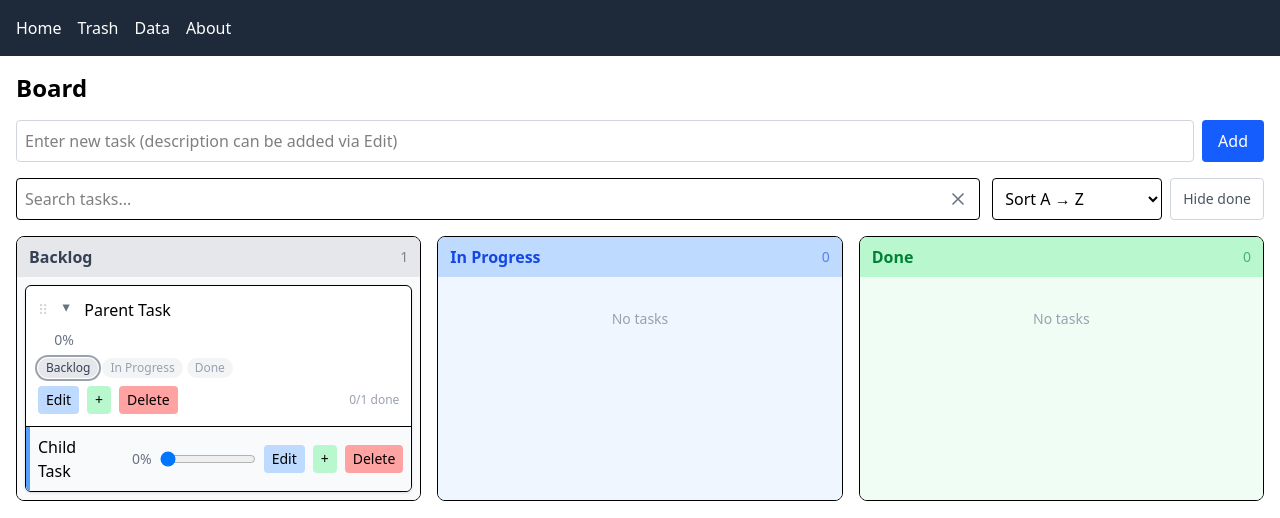
Test: a deleted subtask whose parent is still active shows a subtask badge
The image size is (1280, 518).
Expected: the text "Child Task" is shown, x1=38 y1=436 x2=76 y2=482
Click the button "Delete" in the row of "Child Task" at (374, 459), box x1=345 y1=445 x2=403 y2=473
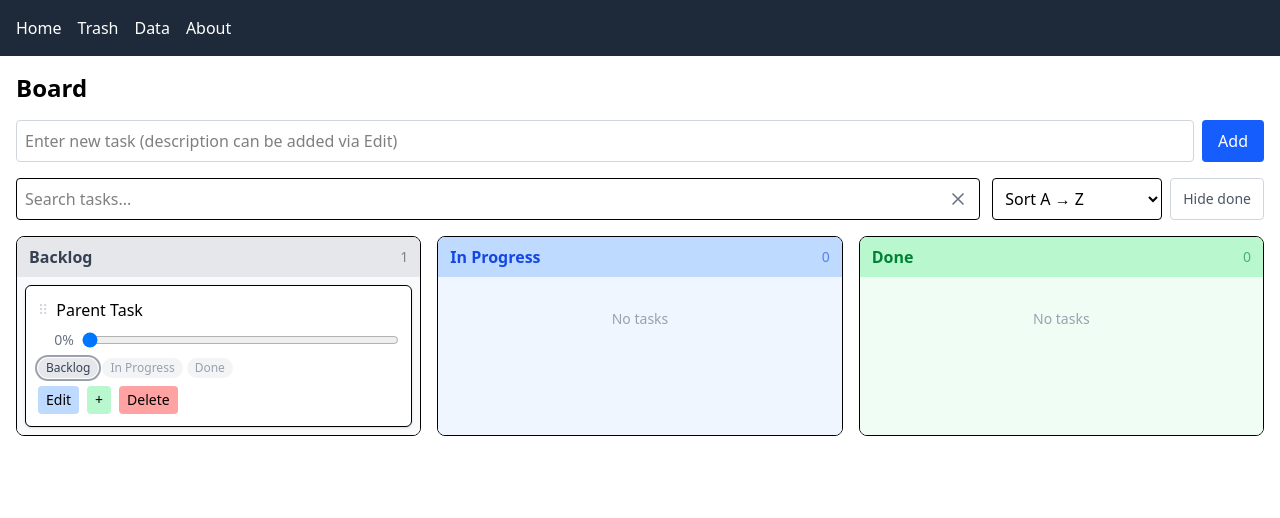
Now the text "Child Task" is gone
Click the link "Trash" at (98, 28), box x1=78 y1=17 x2=118 y2=39
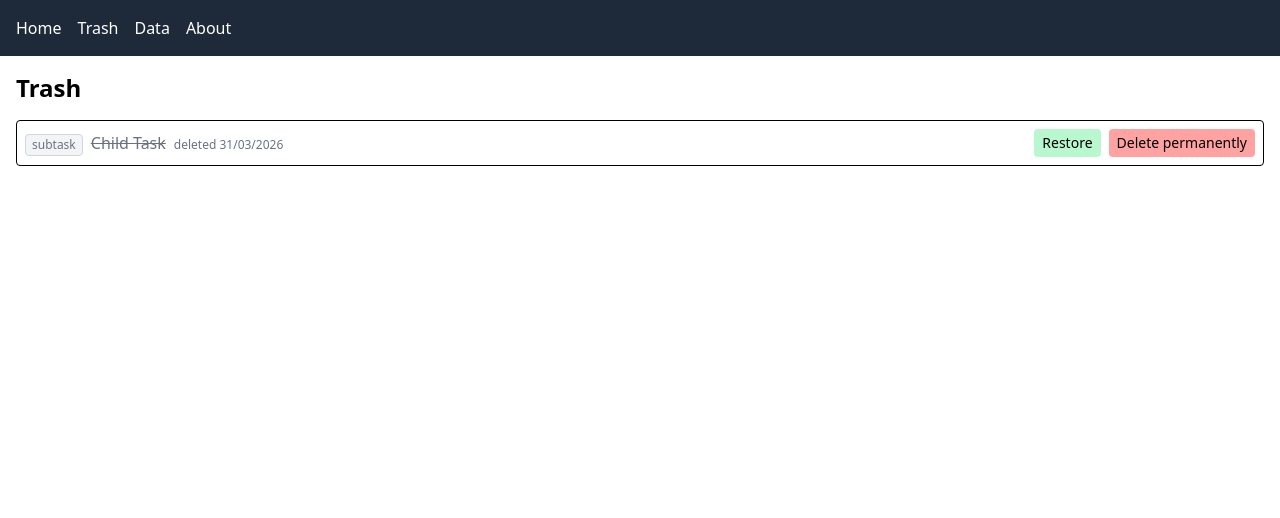
Now the heading "Trash" is shown, box x1=16 y1=71 x2=81 y2=104
Now the text "Child Task" is shown, box x1=91 y1=130 x2=166 y2=154
Now the text "subtask" is shown, box x1=25 y1=134 x2=83 y2=156
